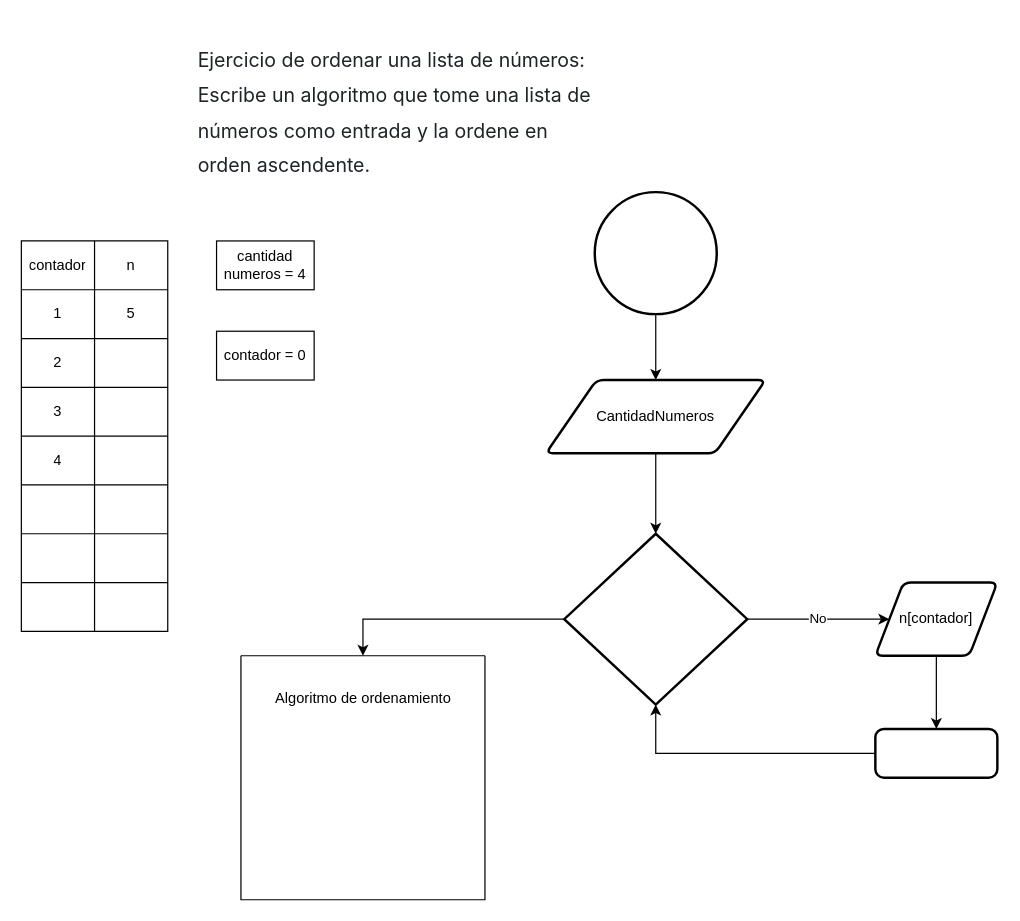
Some shapes in this 1020 by 921 pixel diagram are drawn without their labels. Each missing label, with the centre of its shape:
contador = contador + 1: point (936, 752)
contador > CantidadNumeros: point (655, 618)
Inicio: point (655, 252)
